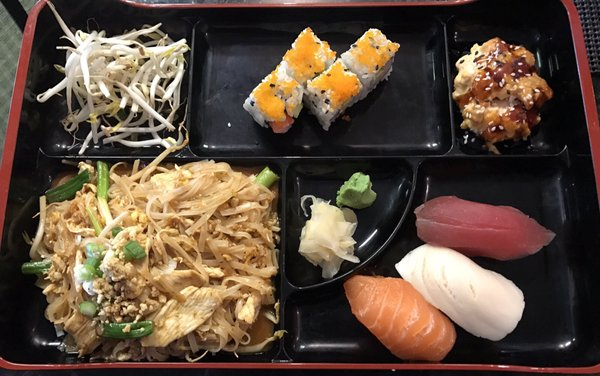sushi: (281, 157, 415, 292)
